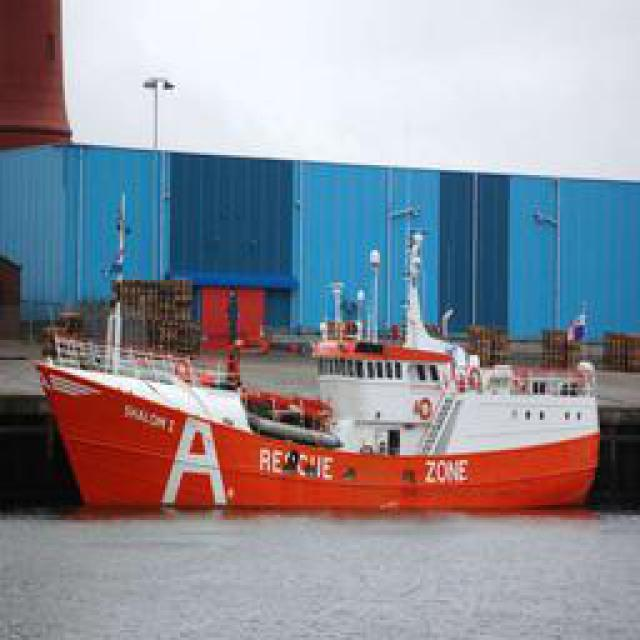Ship: (28, 306, 623, 519)
